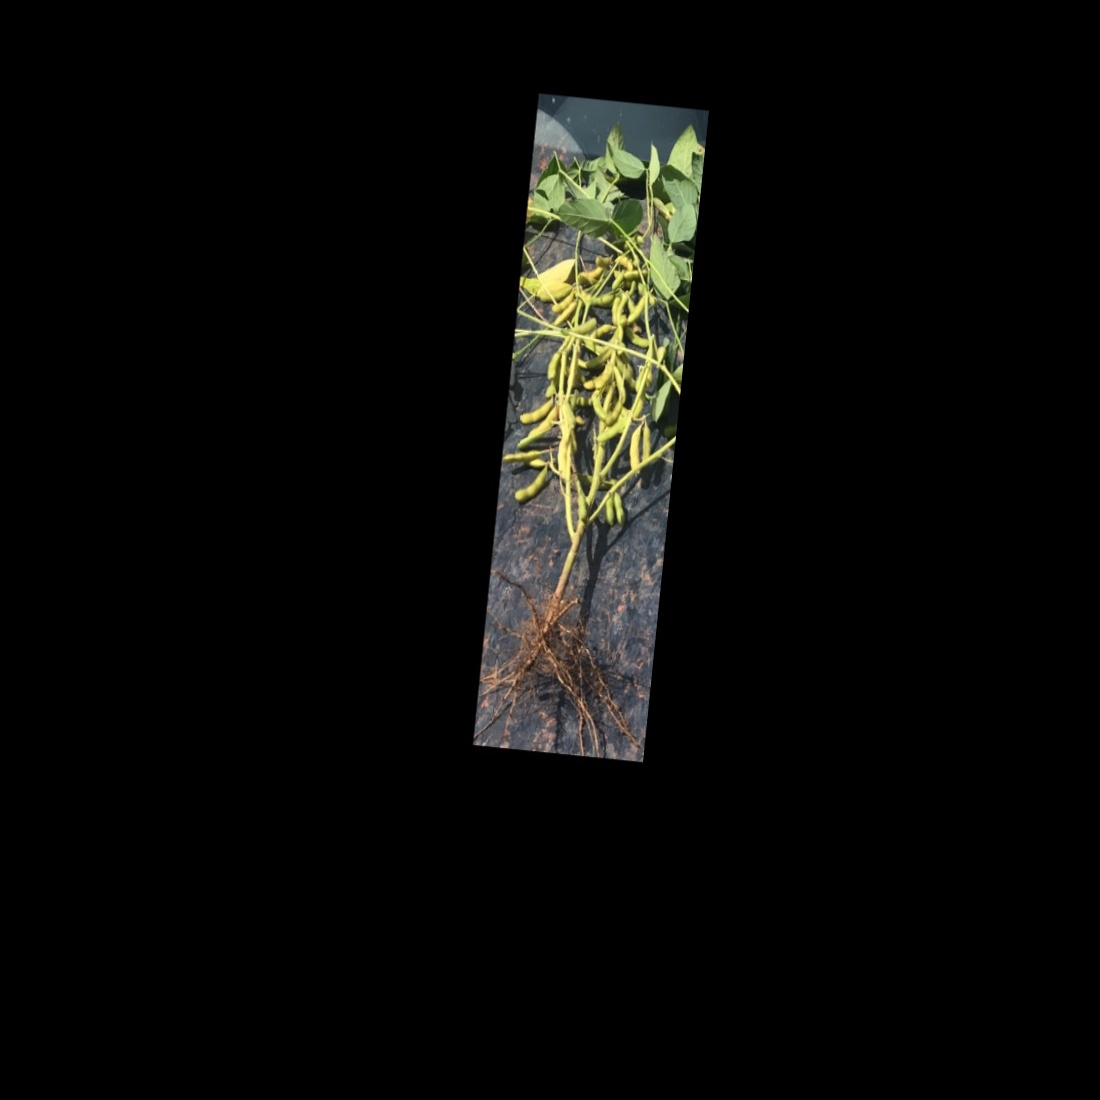pod: (515, 405, 559, 454), (511, 460, 551, 508), (595, 406, 633, 448), (516, 393, 555, 430), (501, 442, 550, 467), (624, 289, 650, 332), (618, 324, 655, 352), (553, 296, 581, 329), (609, 487, 630, 530), (640, 420, 657, 465), (550, 287, 576, 316), (602, 489, 617, 529), (573, 489, 590, 521), (605, 398, 624, 428)
soy: (477, 122, 704, 751)
